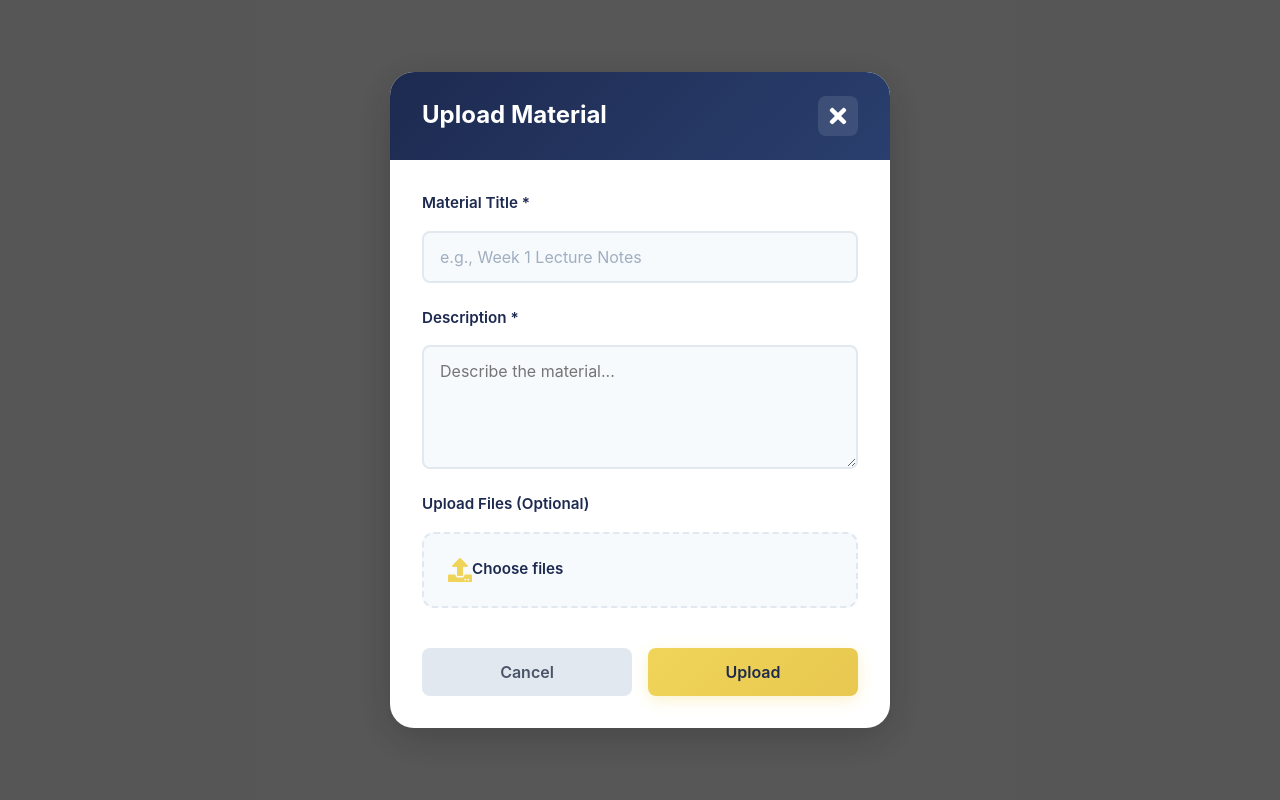
Scenario: UploadMaterialModal › validates inputs
Click the button "Upload". click: (753, 672)
box: [648,648,858,696]
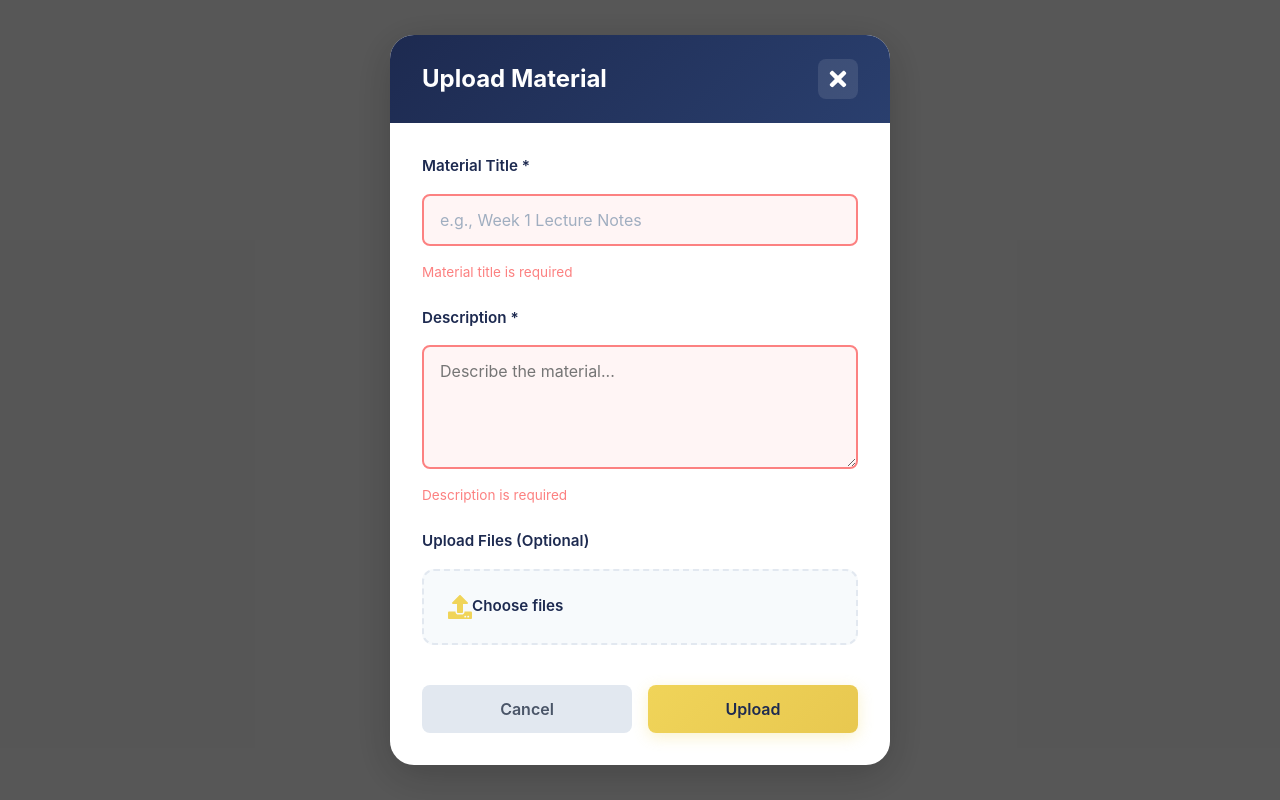
Result: the text "Material title is required" is shown at [422,264,573,280]
